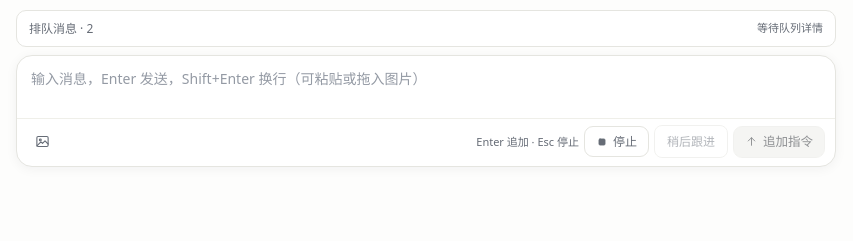
it: message queues and stopping › shows count-only queue information until text is authoritative
Click the text "排队消息 · 2": point(61, 29) [29,19,93,38]
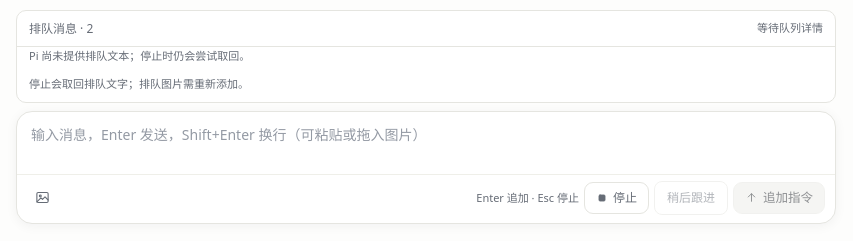
Expected: the text "Pi 尚未提供排队文本；停止时仍会尝试取回。" is shown, [29,48,250,63]
